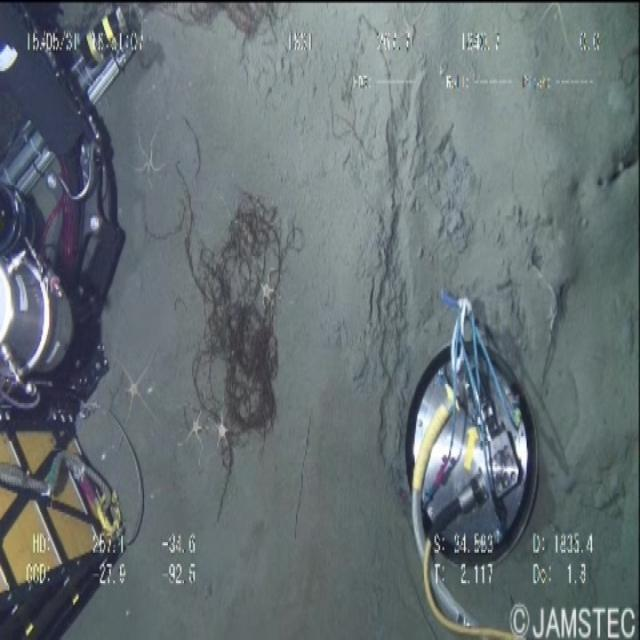Natual-Debris: (130, 123, 175, 197), (286, 479, 294, 483)
Rope: (175, 202, 304, 532), (161, 0, 315, 56), (138, 206, 190, 272), (174, 126, 224, 184)
